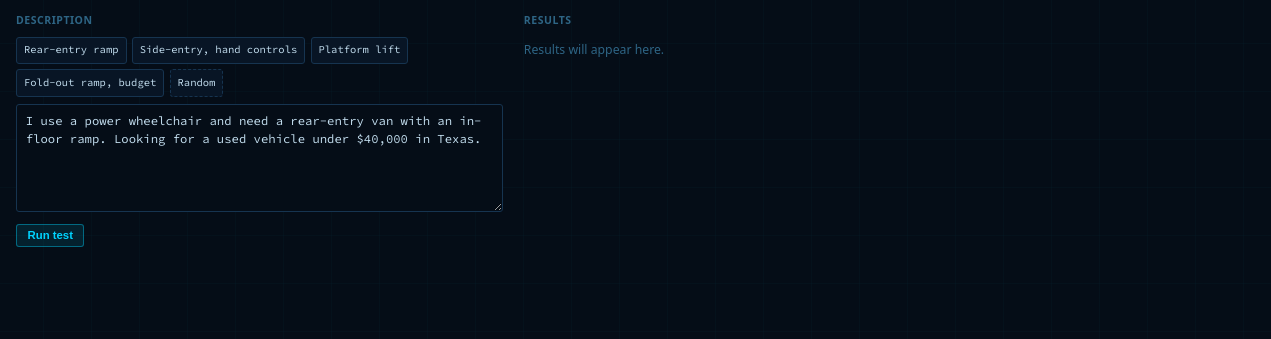
it: IntakeTestPanel › should render the meta table with provider, model, base URL and duration
Click the button "Run test". click: (50, 235)
box: [16,224,84,247]
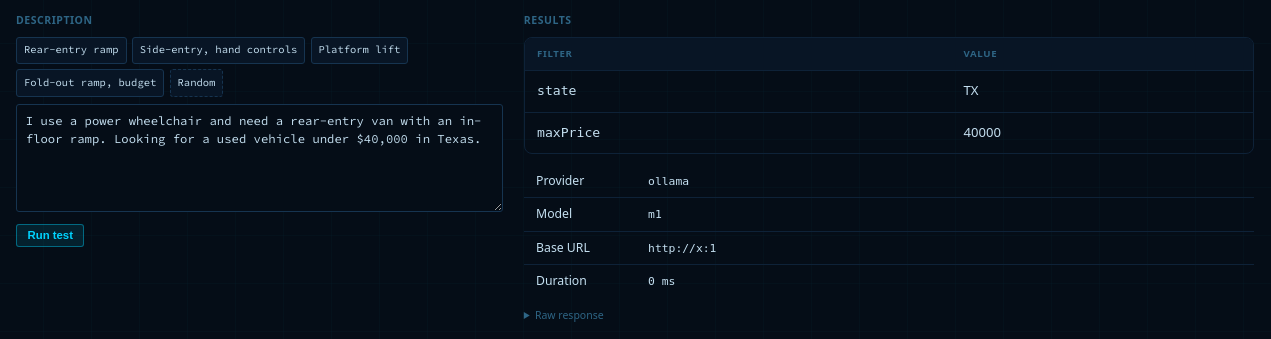
Now the text "Provider" is shown, box [524,165,636,198]
Now the text "ollama" is shown, box [648,174,689,188]
Now the text "m1" is shown, box [648,207,662,221]
